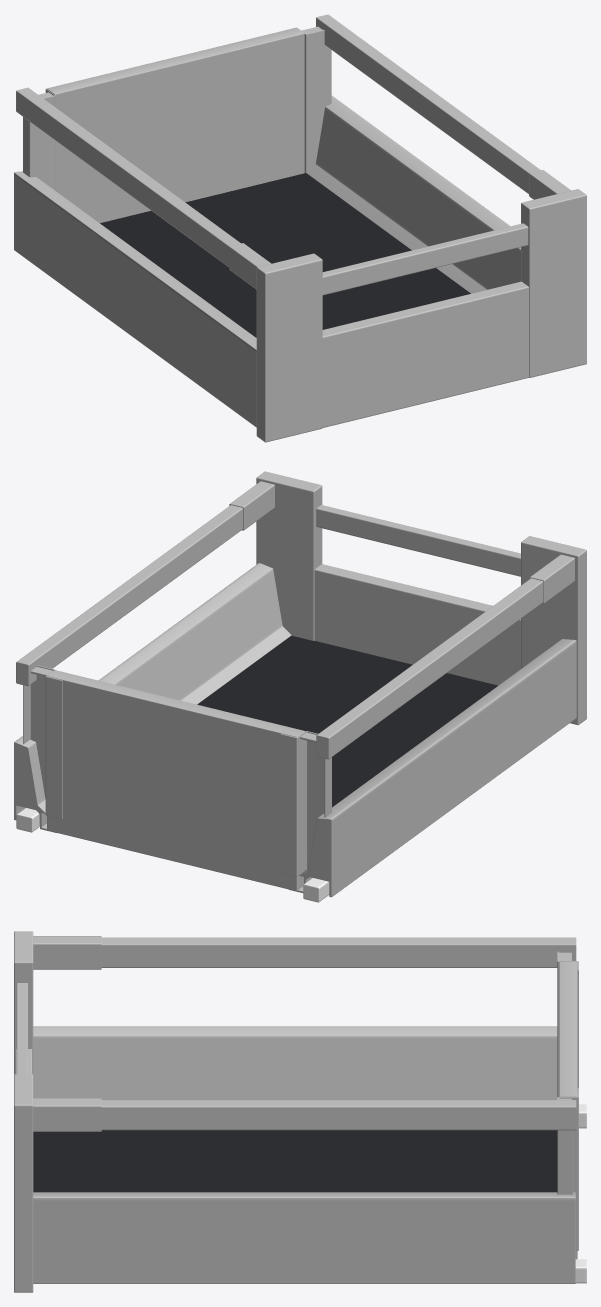
The model's file is Kitchen02Drawer02.obj.
The picture shows the model from 3 angles, top to bottom: view 1: azimuth 30°, elevation 25°; view 2: azimuth 150°, elevation 25°; view 3: azimuth 270°, elevation 25°; orthographic projection. The views are drawn at different scales.
Parts seen in each view (by area): view 1: SM_Kitchen_02_Drawer_02_60; view 2: SM_Kitchen_02_Drawer_02_60; view 3: SM_Kitchen_02_Drawer_02_60.
Part boxes in pixels (x1=…): SM_Kitchen_02_Drawer_02_60: x1=14, y1=14, x2=586, y2=442; SM_Kitchen_02_Drawer_02_60: x1=14, y1=471, x2=586, y2=902; SM_Kitchen_02_Drawer_02_60: x1=14, y1=931, x2=586, y2=1292.
Size of the model in its own units: 36.2 by 18.2 by 50.29.
